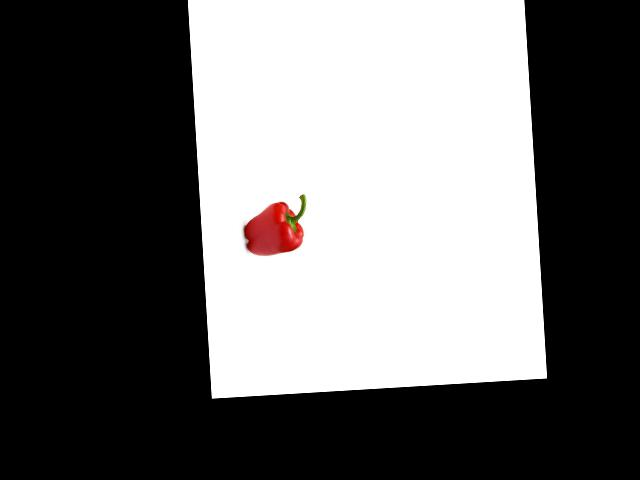bell_pepper: (237, 192, 313, 260)
